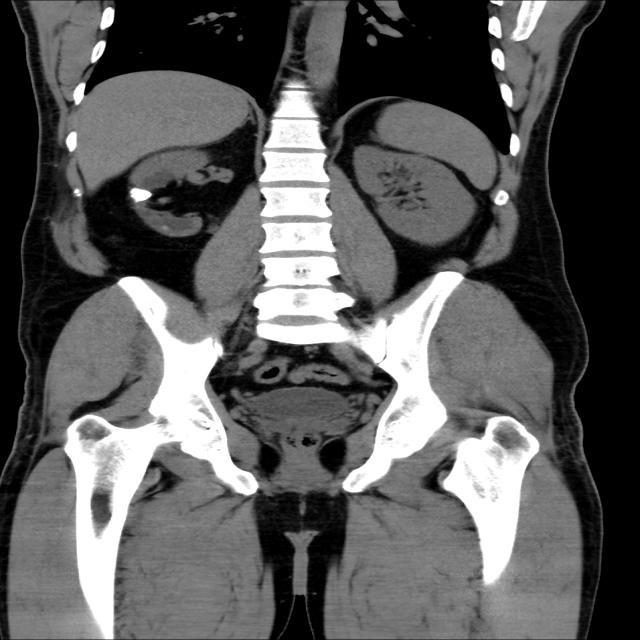kidneystone: (128, 188, 151, 202)
